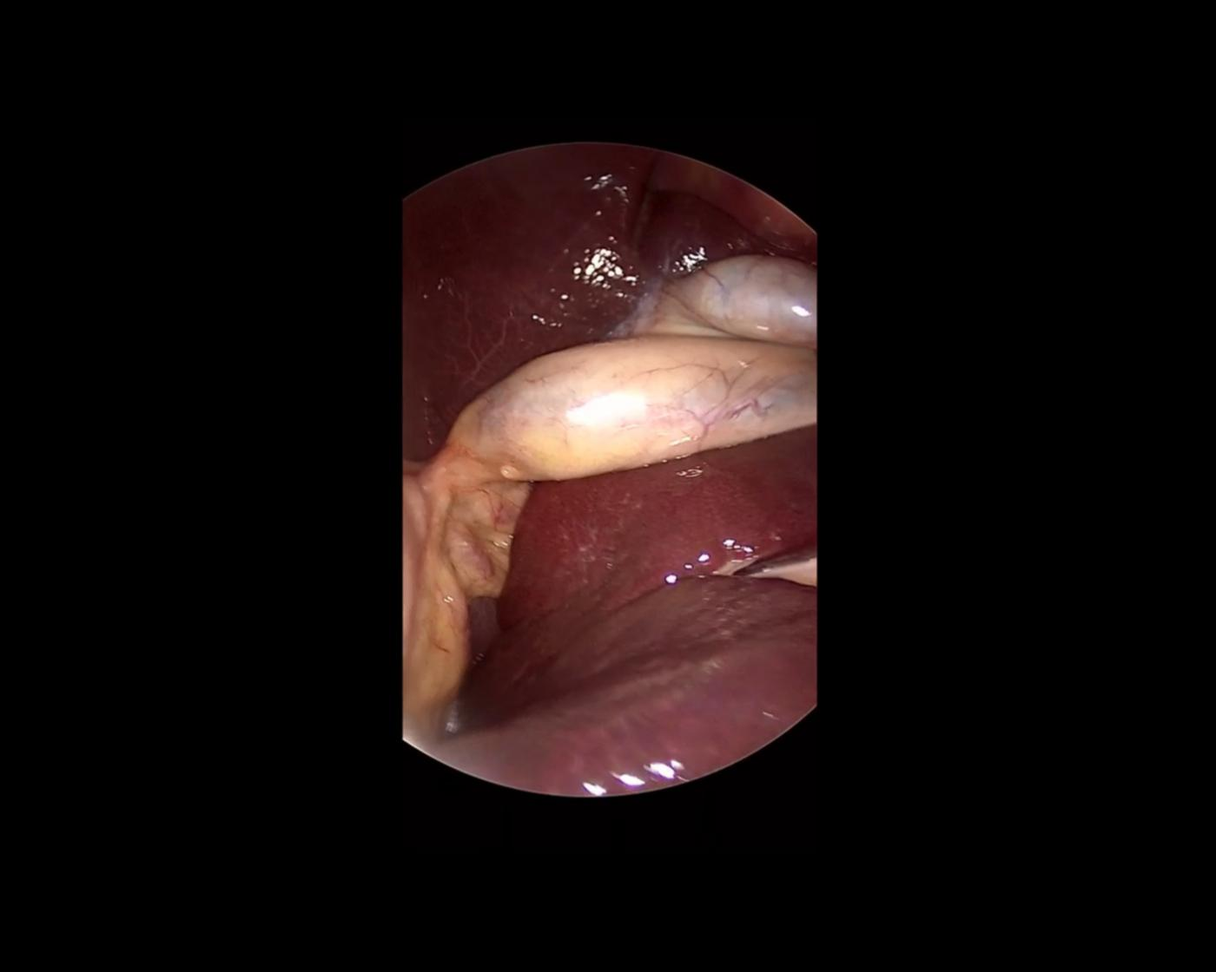Gallbladder: (418, 237, 852, 510)
Liver: (298, 38, 831, 471), (441, 419, 816, 798)
